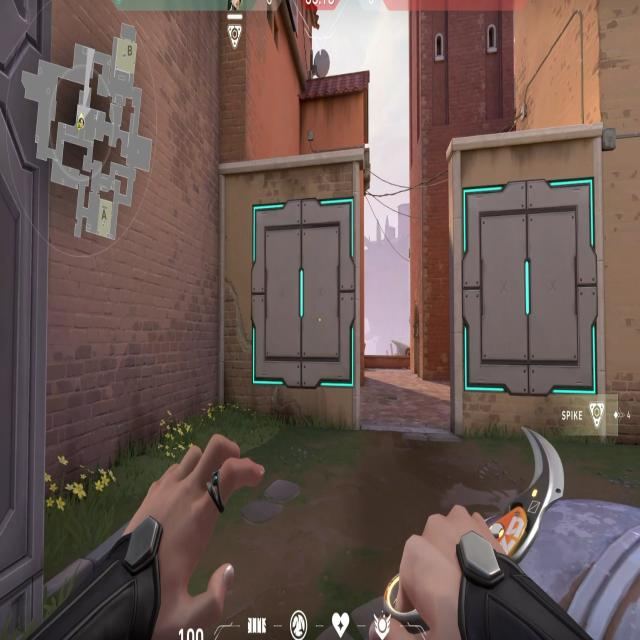Mid_Wall: (455, 161, 611, 428), (243, 158, 369, 464)
